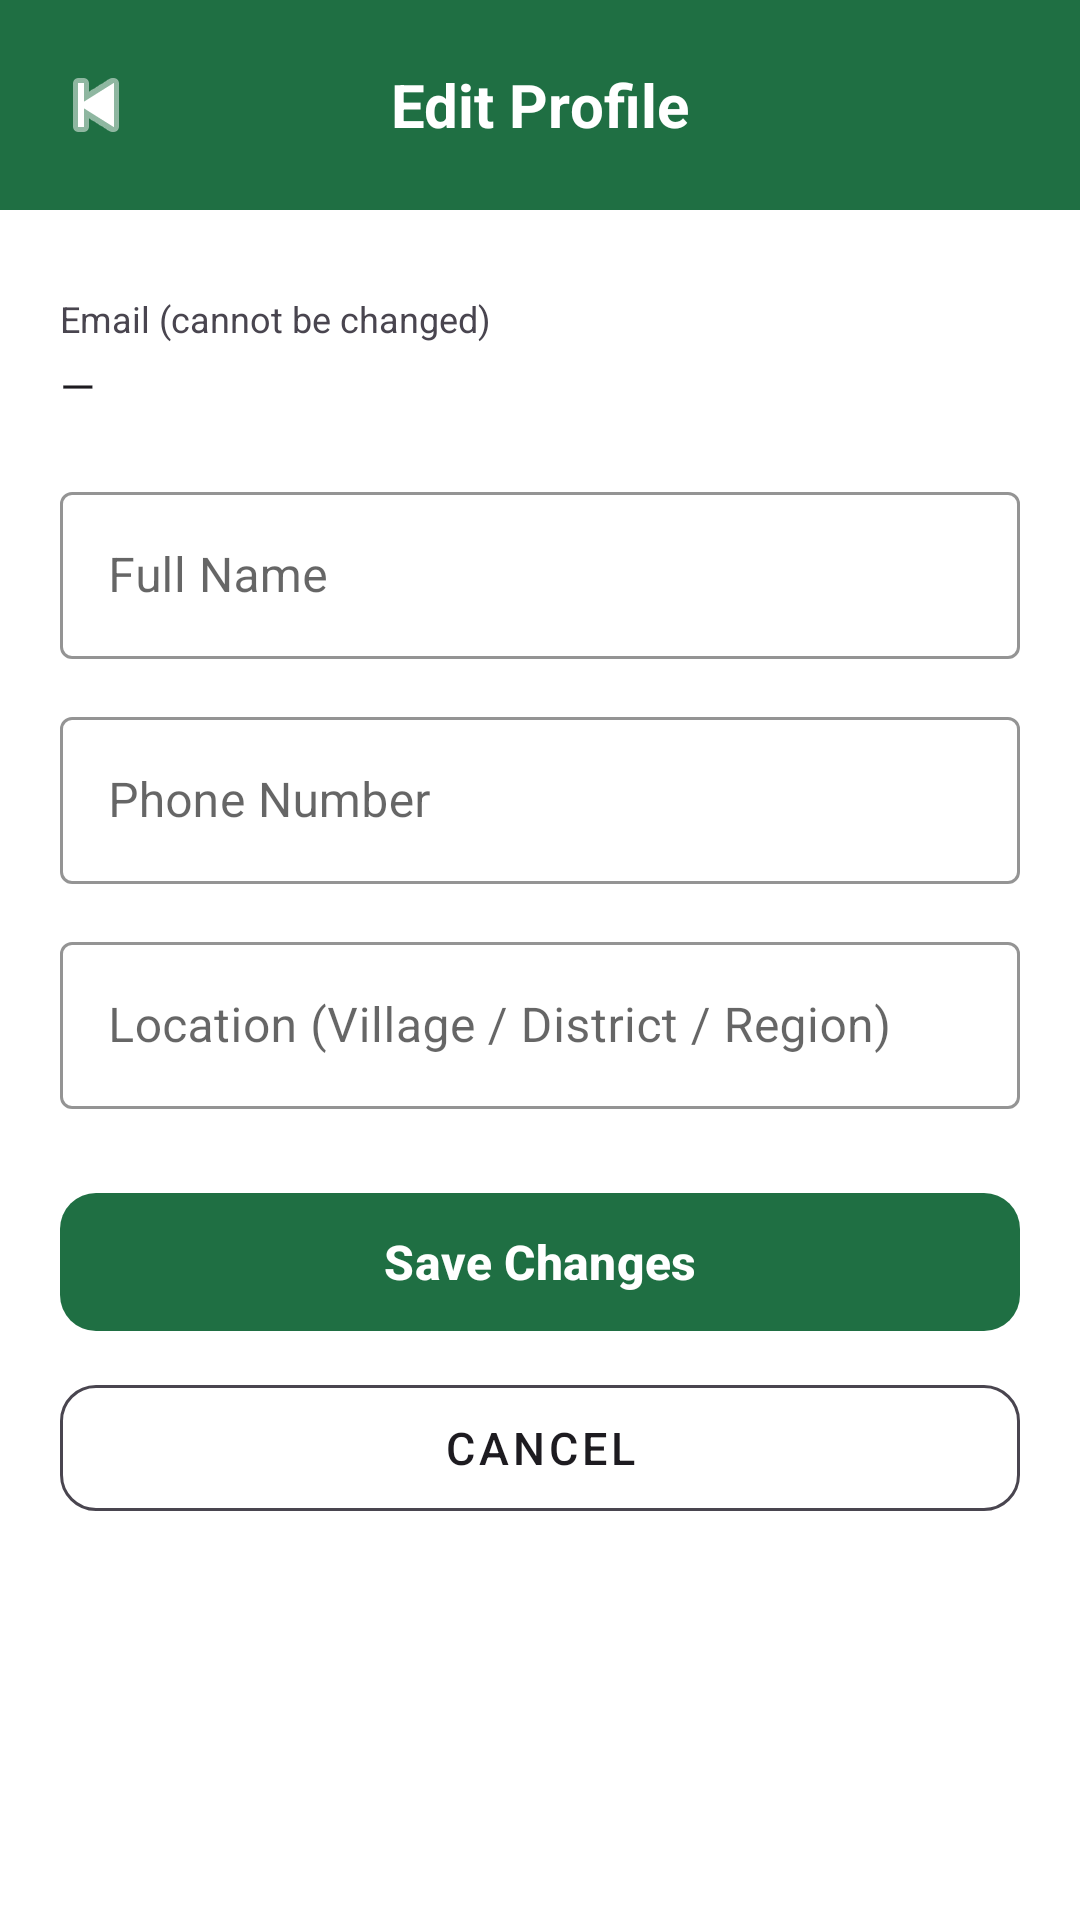

Screen size 1080*1920. Icon name, then its center in pixels as (x=x, y=y):
Back: (x=96, y=105)
